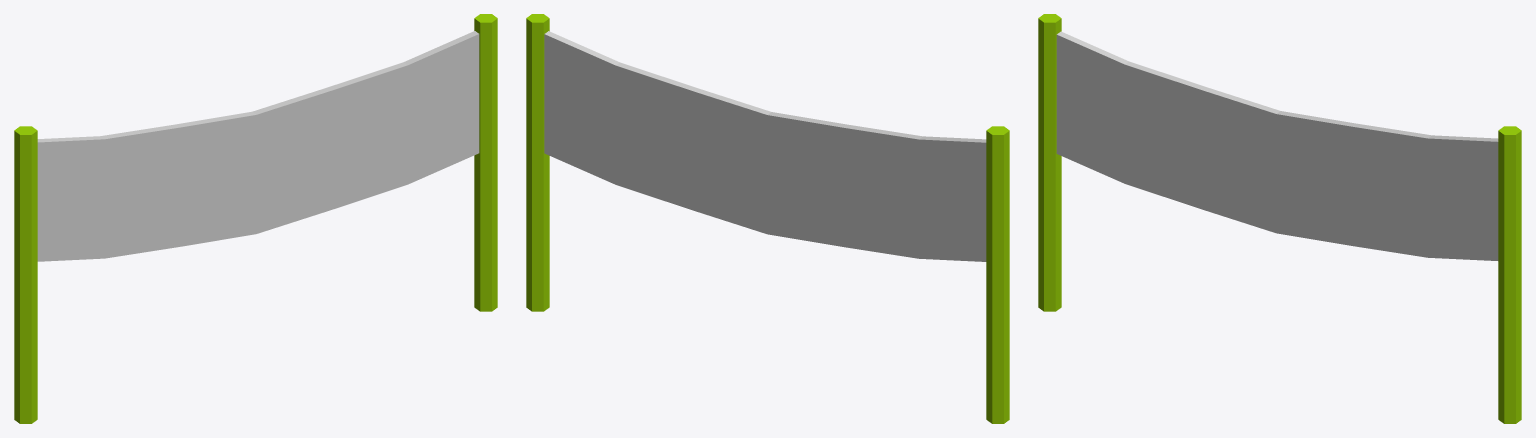
The model's file is volley.fbx.
The picture shows the model from 3 angles, left to right: view 1: azimuth 30°, elevation 25°; view 2: azimuth 150°, elevation 25°; view 3: azimuth 330°, elevation 25°; orthographic projection.
Visible parts, largest first — view 1: Cylinder; view 2: Cylinder; view 3: Cylinder.
Part boxes in pixels (x1=…): Cylinder: x1=14, y1=14, x2=497, y2=423; Cylinder: x1=526, y1=14, x2=1009, y2=423; Cylinder: x1=1038, y1=14, x2=1521, y2=423.
Bounding box in the file's own units: 4.31 × 2.49 × 0.1833.
